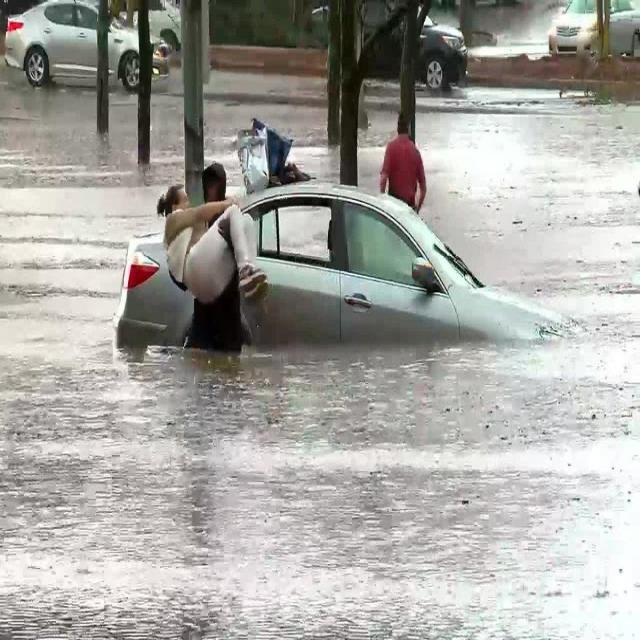water: (3, 65, 637, 639), (202, 68, 339, 192)
